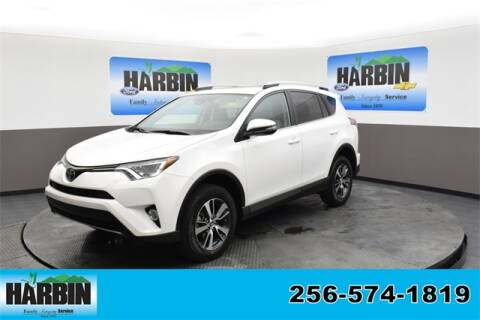Toyota RAV-4: (43, 80, 363, 259)
